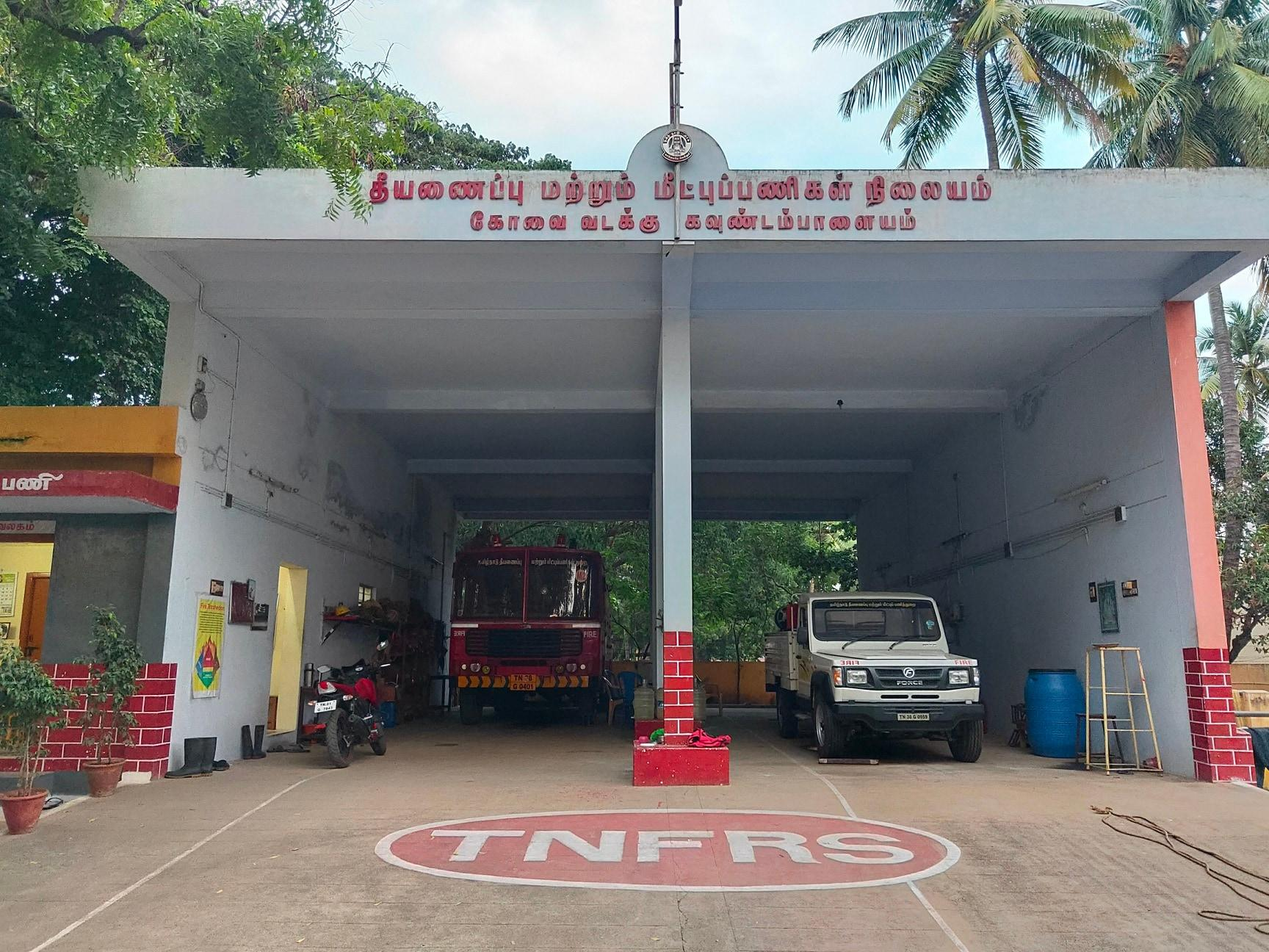Fire-engine: (452, 527, 610, 733)
